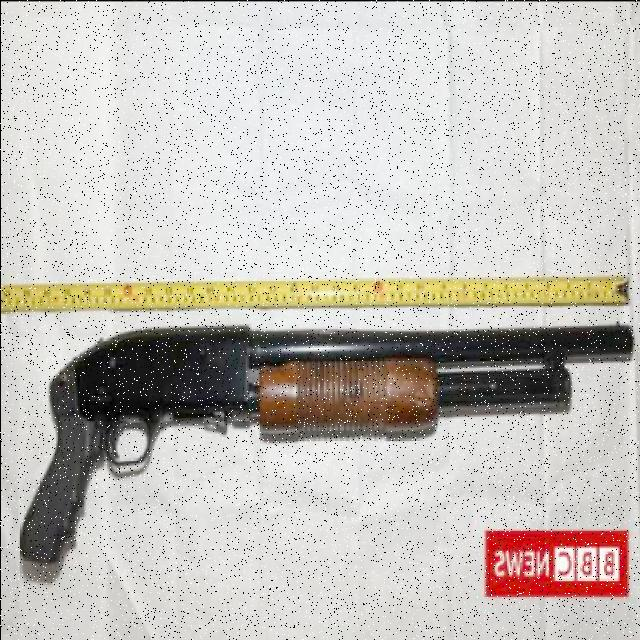Guns: (14, 326, 635, 565)
